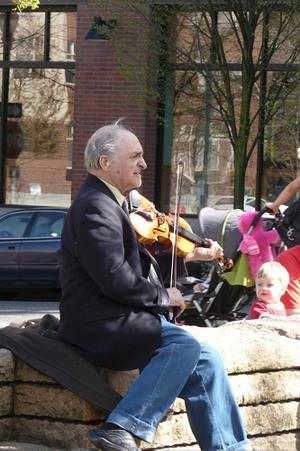person: (59, 123, 249, 451)
